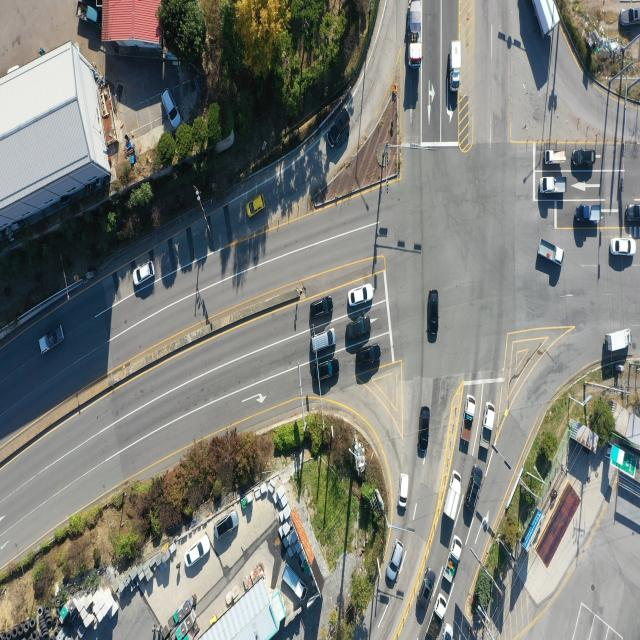car: (161, 92, 180, 132), (469, 467, 486, 511), (188, 538, 211, 569), (419, 570, 437, 609), (312, 358, 340, 383), (387, 541, 404, 582), (309, 330, 336, 355), (427, 289, 439, 344), (419, 406, 431, 460), (346, 319, 371, 344), (357, 343, 382, 368), (215, 511, 238, 538), (348, 284, 373, 307), (133, 263, 155, 288), (309, 298, 334, 320), (248, 195, 268, 219), (612, 238, 637, 256), (602, 360, 624, 380), (572, 149, 594, 167), (619, 8, 640, 26), (398, 474, 408, 510), (626, 203, 640, 223), (441, 625, 455, 640)
medium_truck: (403, 0, 424, 69), (531, 0, 559, 37)
small_truck: (441, 470, 463, 523), (282, 563, 308, 600), (428, 595, 449, 640), (479, 402, 496, 457), (463, 396, 478, 457), (444, 536, 463, 584), (40, 327, 65, 356), (539, 238, 566, 262), (607, 330, 632, 355), (450, 41, 462, 90), (77, 2, 99, 27), (540, 176, 568, 195), (576, 204, 601, 223), (546, 149, 568, 164)
